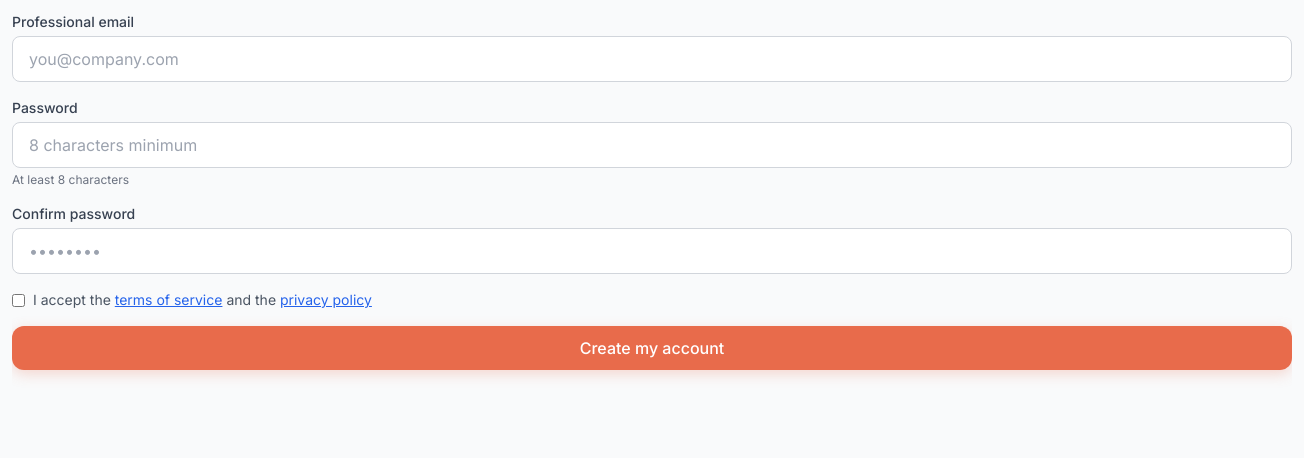
it: RegisterForm › shows error when password < 8 characters
The width and height of the screenshot is (1304, 458).
Type "john@law.com" into the field with placeholder "you@company.com". click: (652, 59)
box: [12, 36, 1292, 82]
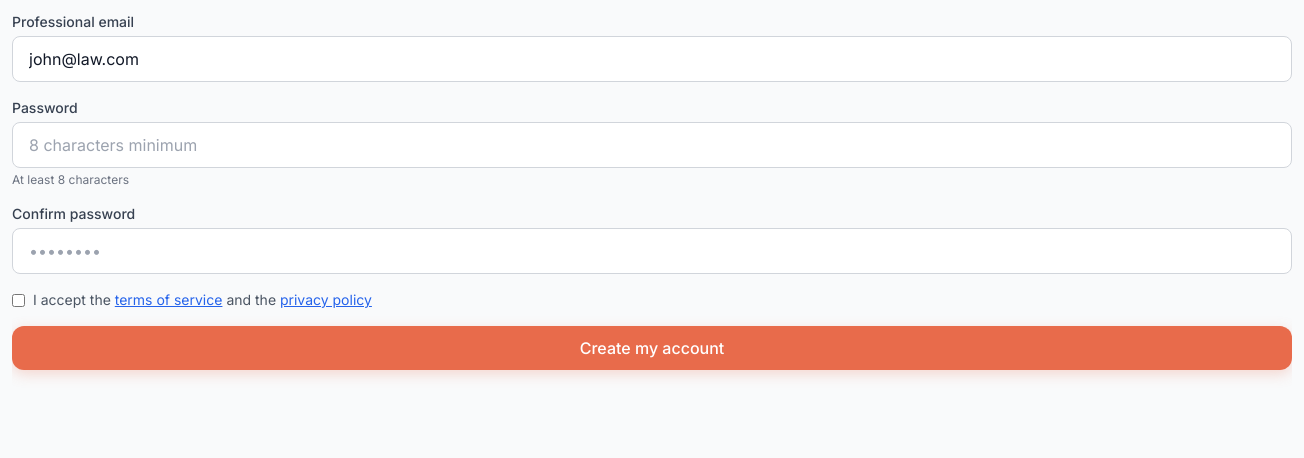
Type "short" into the password field with placeholder "8 characters minimum". click: (652, 145)
box: [12, 122, 1292, 168]
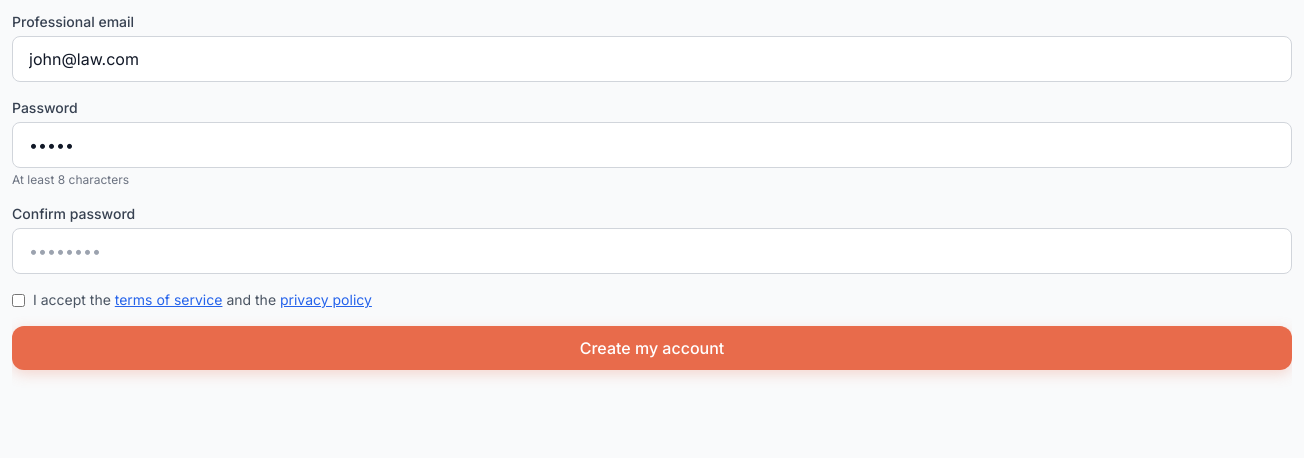
Type "short" into the password field with placeholder "••••••••". click: (652, 251)
box: [12, 228, 1292, 274]
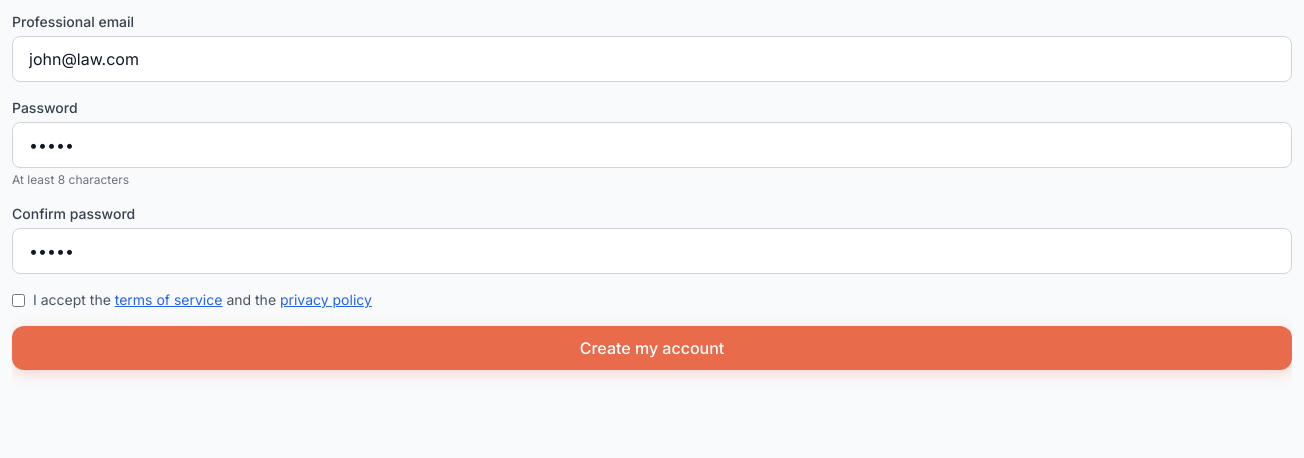
Click the checkbox. click: (18, 300)
box: [12, 294, 25, 307]
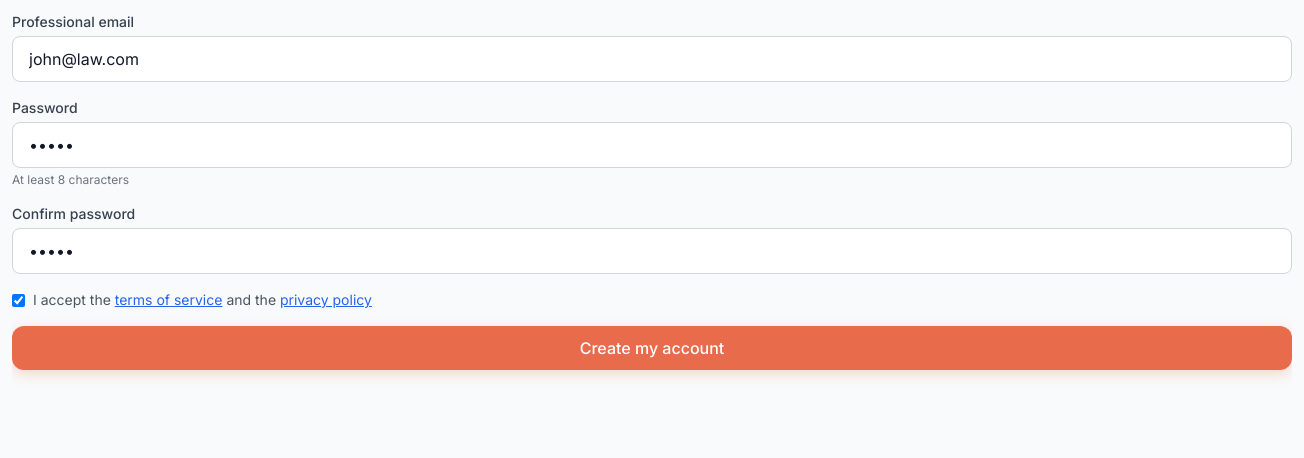
Submit the form from the button "Create my account", box [12, 326, 1292, 370]
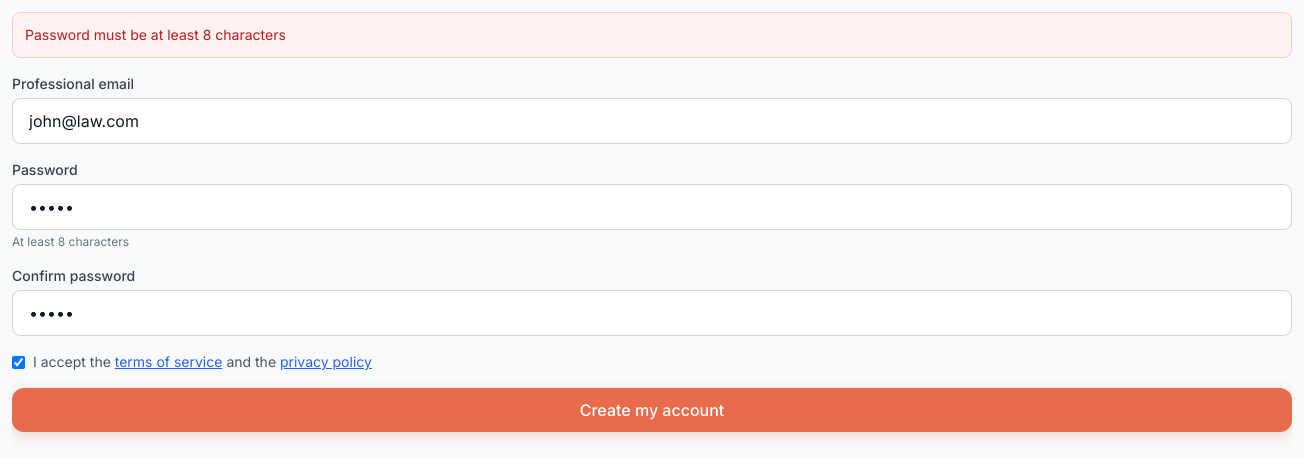
Expected: the text "Password must be at least 8 characters" is shown, [12, 12, 1292, 58]
